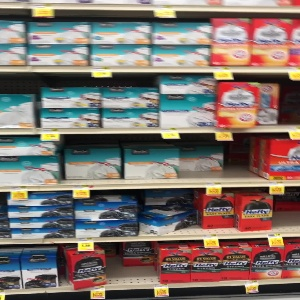void: (178, 134, 259, 181), (109, 243, 153, 285), (272, 186, 300, 232)
